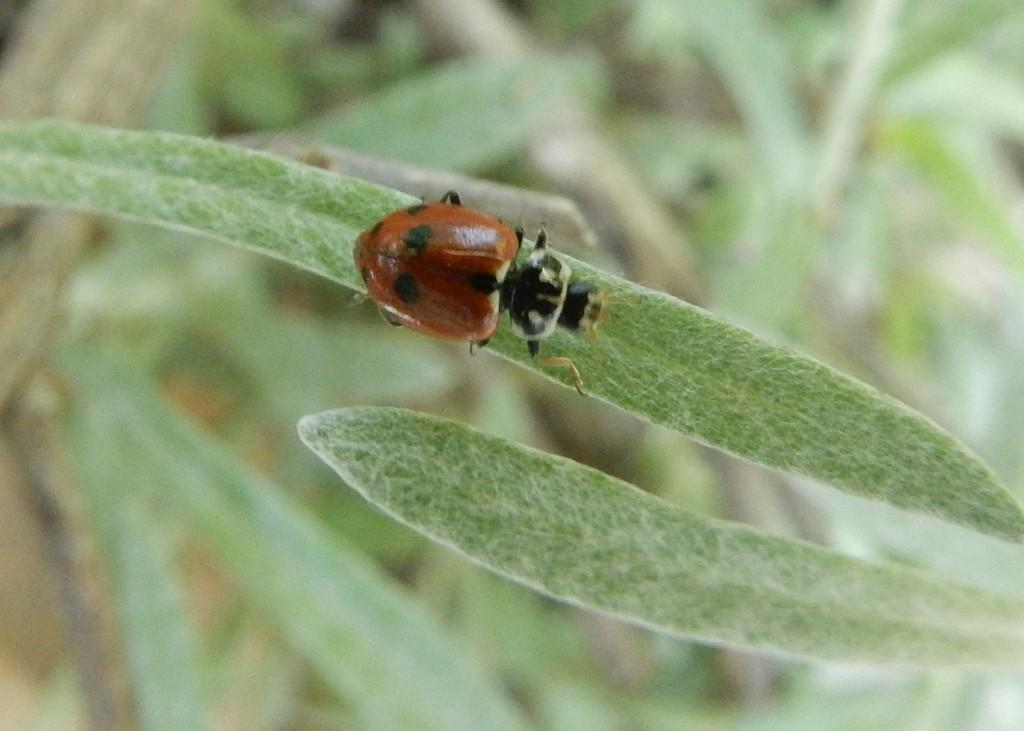ladybug: (357, 187, 609, 361)
